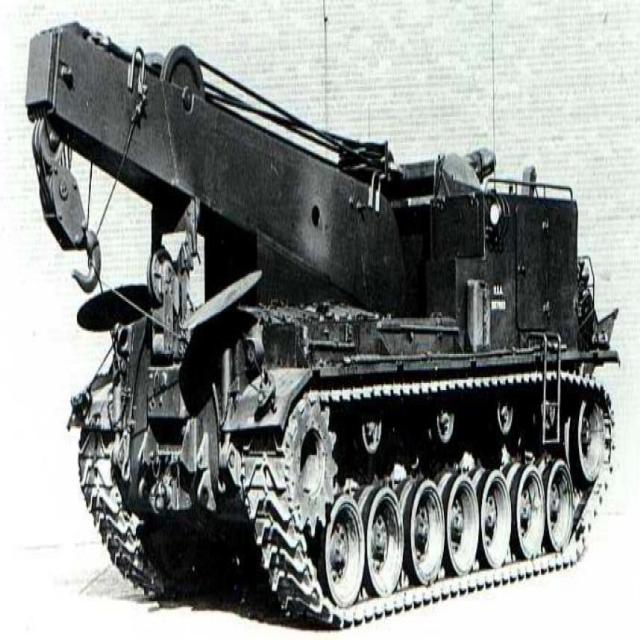Tanks: (24, 23, 625, 590)
